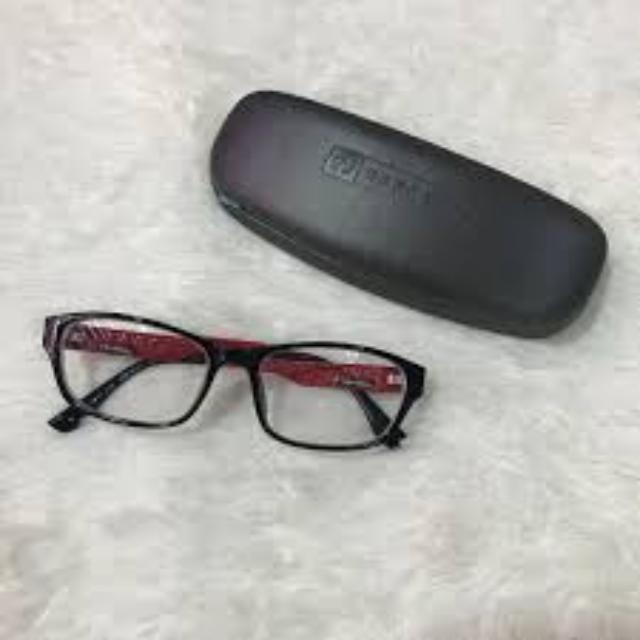glasses: (40, 308, 428, 456)
